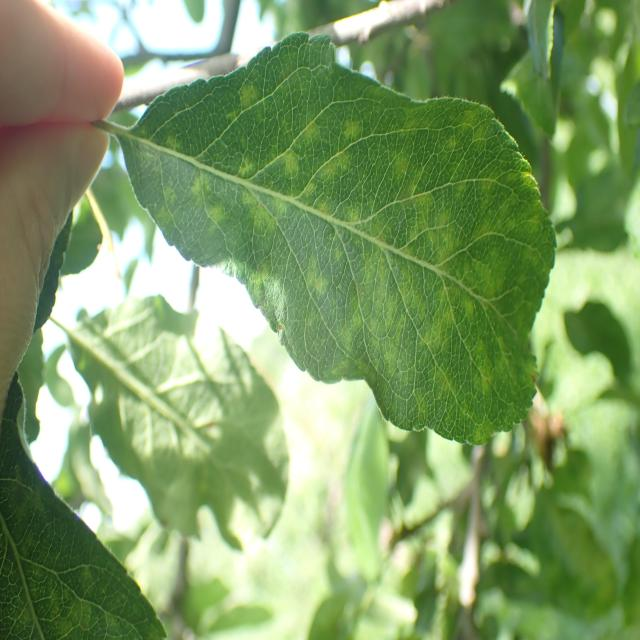scab: (146, 48, 553, 438)
